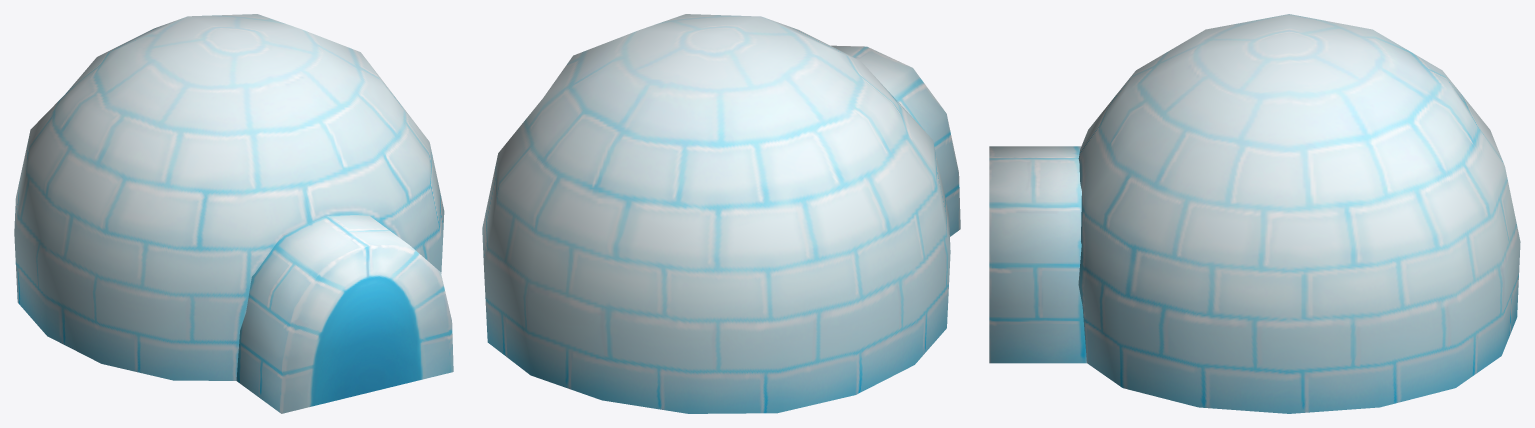
File: Igloo_001.FBX
3 views of the same model, side by side, from view 1: azimuth 30°, elevation 25°; view 2: azimuth 150°, elevation 25°; view 3: azimuth 270°, elevation 25° (orthographic). The views are drawn at different scales.
Parts seen in each view (by area): view 1: Igloo_001; view 2: Igloo_001; view 3: Igloo_001.
Part boxes in pixels (x1,y1,x2,y2): Igloo_001: (14, 14, 453, 413); Igloo_001: (482, 14, 960, 413); Igloo_001: (989, 14, 1520, 413).
Bounding box in the file's own units: 11.42 × 7.61 × 13.11.
